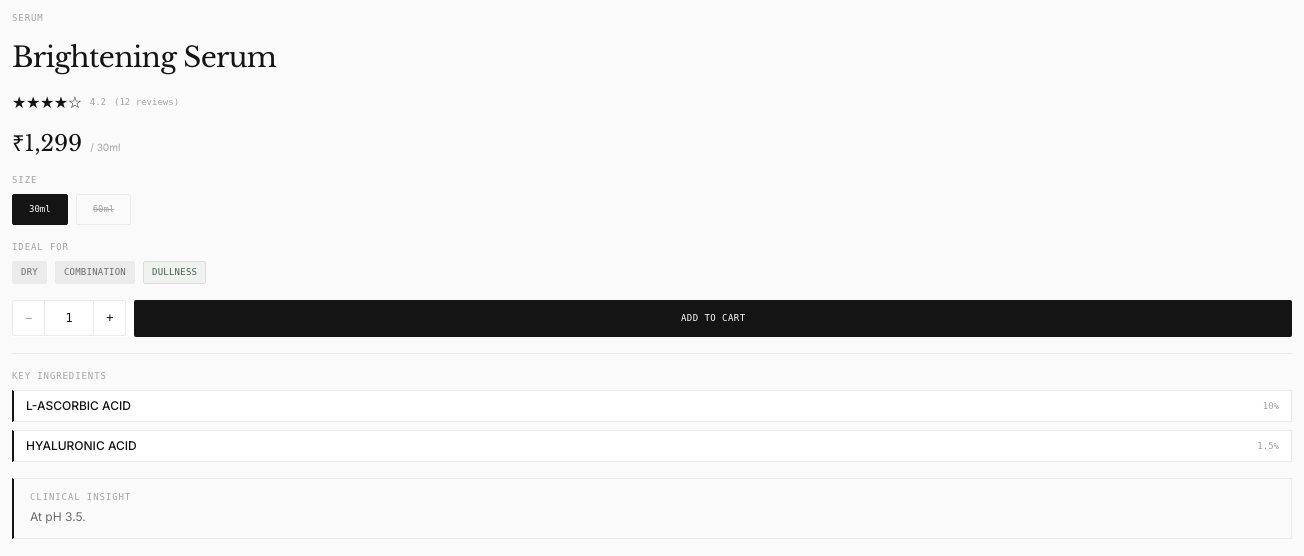
Test: PDPPurchasePanel › updates the price when a different variant is selected
What coordinates should you click on to do the following:
click the button with test id "variant-pill-v2"
I would click on:
 (104, 210)
Its box is [76, 194, 131, 225].
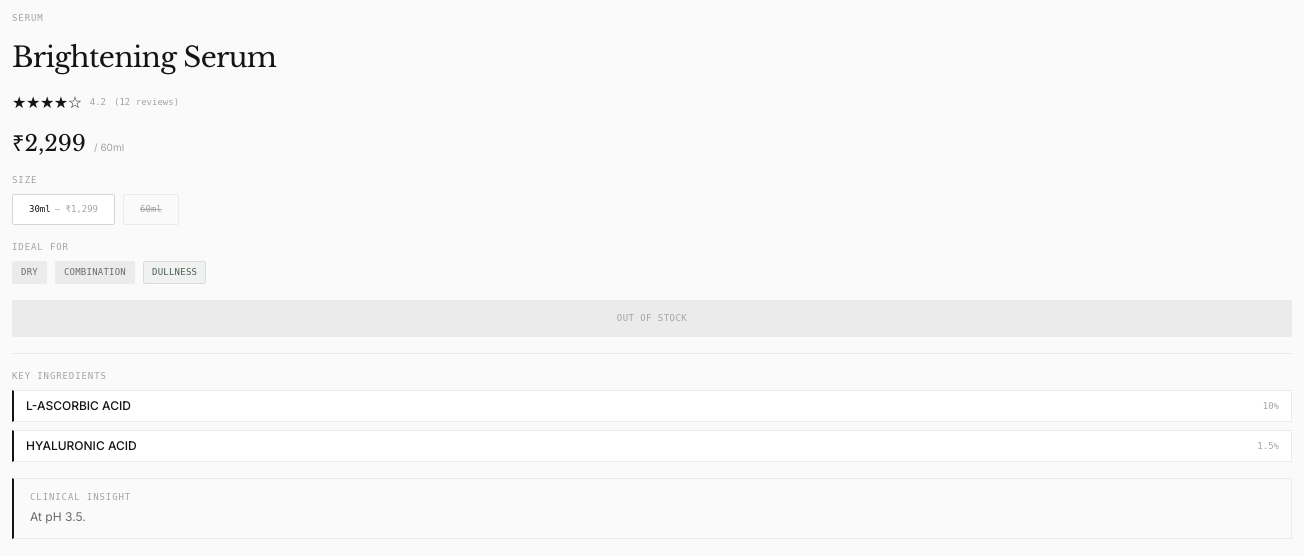
Expected: the text "₹2,299" is shown, [12, 130, 86, 157]
